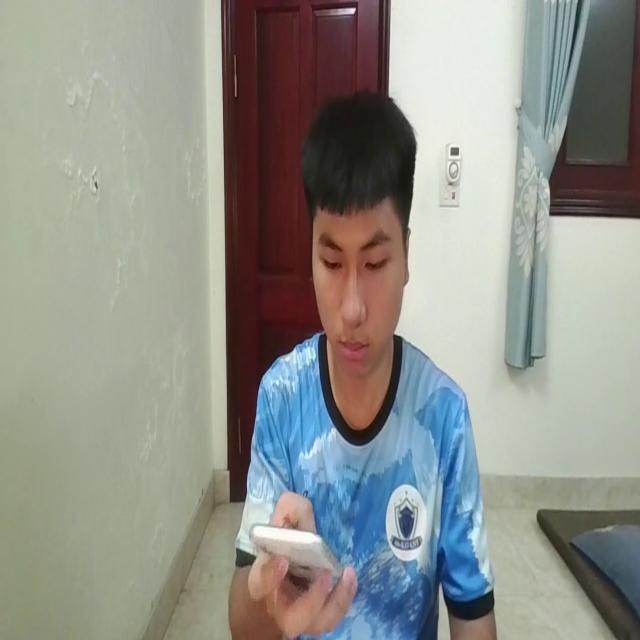phone: (245, 510, 344, 607)
student: (225, 86, 499, 640)
